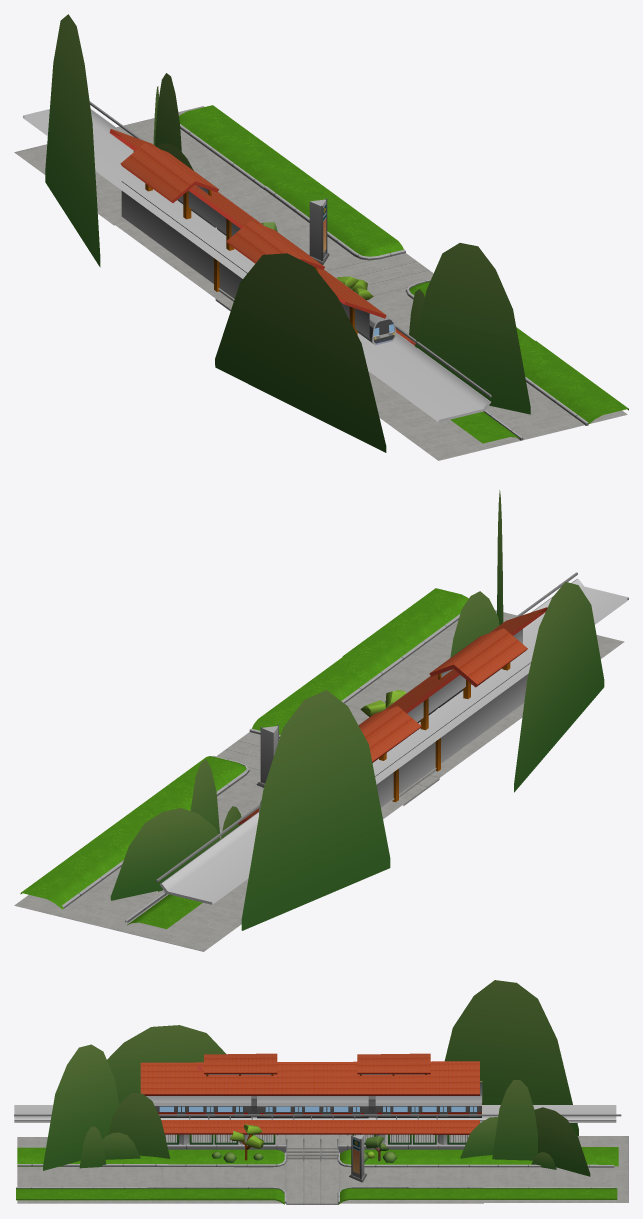
Rendered from Train Start V3.fbx.
3 renders of one model, top to bottom at view 1: azimuth 30°, elevation 25°; view 2: azimuth 150°, elevation 25°; view 3: azimuth 270°, elevation 25°, orthographic. The views are drawn at different scales.
Visible parts, largest first — view 1: pasted__pasted__pCube5589, pasted__pasted__pCube5588, pCube13769, pasted__pasted__pCube5590, pCube13805, pCube13860, pCube13868, pCube13867, pCube13764, pCube13862, pCube13859, pCube13778 (+8 smaller); view 2: pasted__pasted__pCube5590, pasted__pasted__pCube5589, pCube13769, pCube13868, pCube13805, pasted__pasted__pCube5586, pCube13862, pCube13859, pCube13867, pCube13750, pCube13764, pCube13822 (+10 smaller); view 3: pasted__pasted__pCube5590, pCube13779, pCube13805, pasted__pasted__pCube5588, pCube13820, pCube13868, pasted__pasted__pCube5589, pCube13860, pasted__pasted__pCube5585, pCube13769, pCube13752, pasted__pCube5710 (+26 smaller).
Boxes of the visible parts, <box> form: pasted__pasted__pCube5589: <box>215,253,386,452</box>; pasted__pasted__pCube5588: <box>415,243,530,414</box>; pCube13769: <box>23,109,490,422</box>; pasted__pasted__pCube5590: <box>45,14,100,267</box>; pCube13805: <box>116,189,433,334</box>; pCube13860: <box>372,382,627,460</box>; pCube13868: <box>14,106,262,225</box>; pCube13867: <box>179,105,304,186</box>; pCube13764: <box>268,173,403,260</box>; pCube13862: <box>521,341,628,424</box>; pCube13859: <box>121,181,247,298</box>; pCube13778: <box>120,143,218,202</box>; pasted__pasted__pCube5590: <box>241,690,390,930</box>; pasted__pasted__pCube5589: <box>514,581,604,792</box>; pCube13769: <box>159,579,628,904</box>; pCube13868: <box>14,867,248,951</box>; pCube13805: <box>217,669,523,838</box>; pasted__pasted__pCube5586: <box>110,808,220,900</box>; pCube13862: <box>342,588,468,665</box>; pCube13859: <box>375,662,530,807</box>; pCube13867: <box>20,825,138,909</box>; pCube13750: <box>252,651,389,734</box>; pCube13764: <box>114,756,246,830</box>; pCube13822: <box>429,628,527,687</box>; pasted__pasted__pCube5590: <box>444,980,578,1135</box>; pCube13779: <box>140,1061,479,1095</box>; pCube13805: <box>141,1159,483,1204</box>; pasted__pasted__pCube5588: <box>43,1044,119,1170</box>; pCube13820: <box>161,1120,479,1134</box>; pCube13868: <box>484,1136,628,1202</box>; pasted__pasted__pCube5589: <box>107,1025,226,1104</box>; pCube13860: <box>17,1137,162,1203</box>; pasted__pasted__pCube5585: <box>492,1080,537,1160</box>; pCube13769: <box>14,1105,616,1122</box>; pCube13752: <box>165,1134,469,1149</box>; pasted__pCube5710: <box>108,1092,170,1158</box>.
Size of the model in its own units: 15.9 by 13.34 by 47.54.
Materials: 2 (2 with a texture image).
